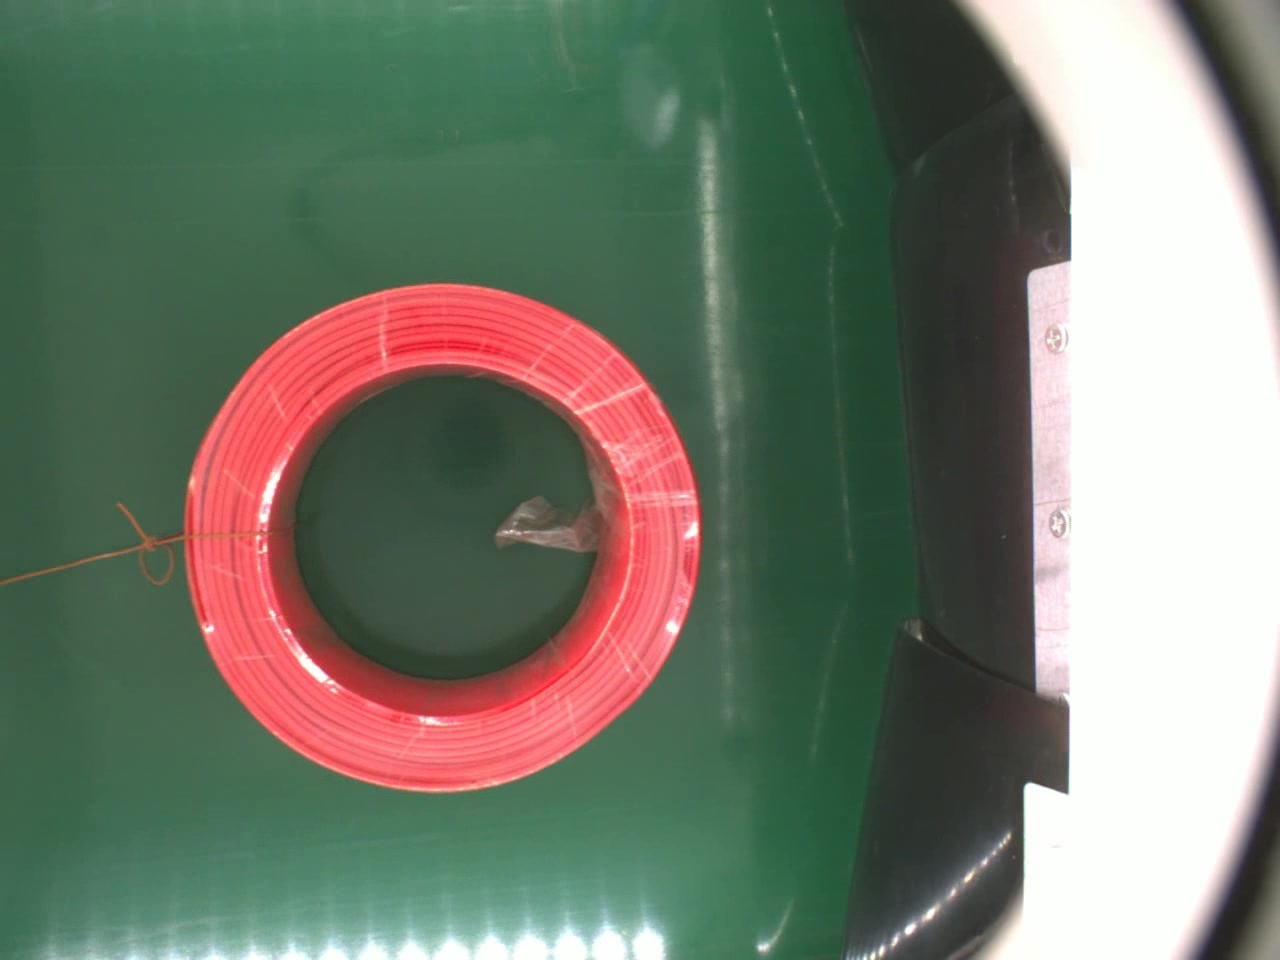red: (181, 278, 705, 791)
